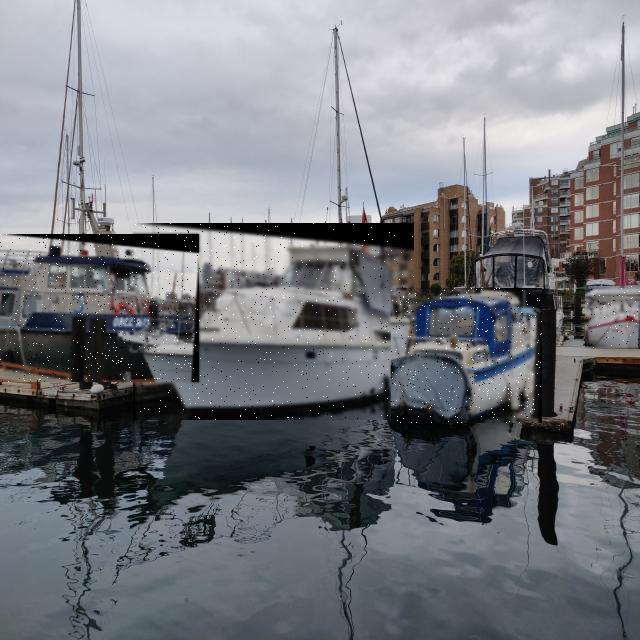boat: (133, 223, 414, 420), (0, 235, 199, 382), (391, 288, 542, 423), (585, 286, 640, 349)
